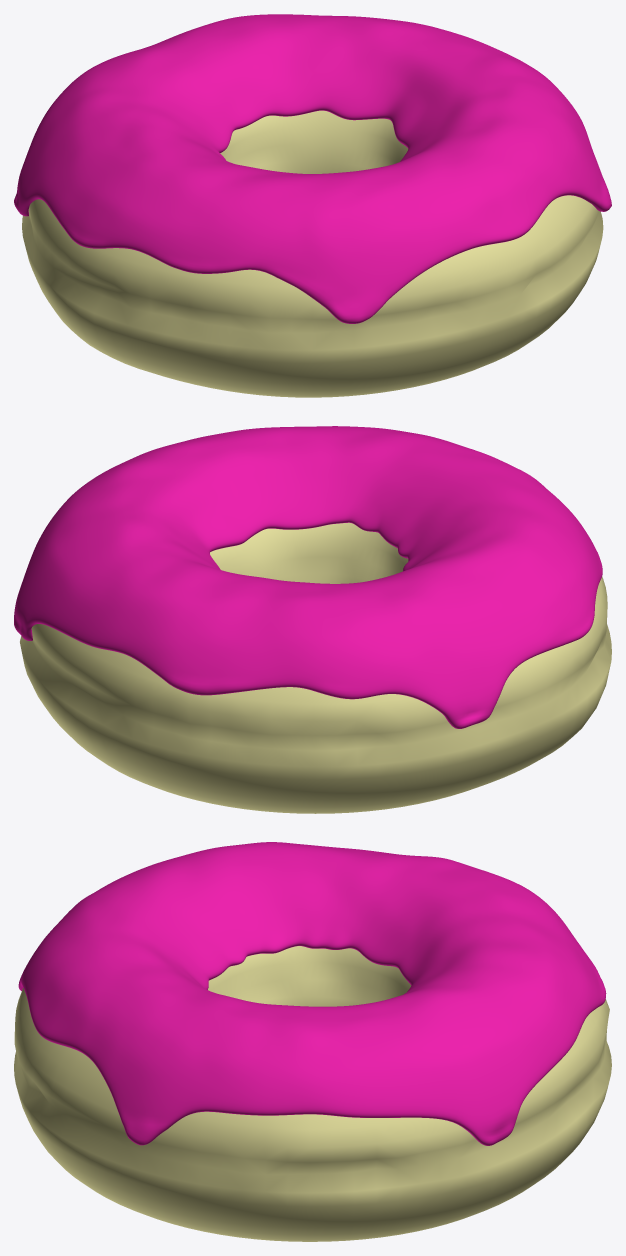
Rendered from doughnut-2.glb.
The picture shows the model from 3 angles, top to bottom: view 1: azimuth 30°, elevation 25°; view 2: azimuth 150°, elevation 25°; view 3: azimuth 270°, elevation 25°; orthographic projection. The views are drawn at different scales.
Parts seen in each view (by area): view 1: icing, body; view 2: icing, body; view 3: icing, body.
Boxes of the visible parts, box(x1,y1,x2,y2) form: icing: box(14, 14, 611, 323); body: box(22, 110, 603, 397); icing: box(14, 426, 602, 728); body: box(20, 522, 611, 813); icing: box(18, 842, 606, 1145); body: box(14, 946, 611, 1241).
Size of what is drawn, in the model's own units: 0.1543 by 0.0605 by 0.1501.
